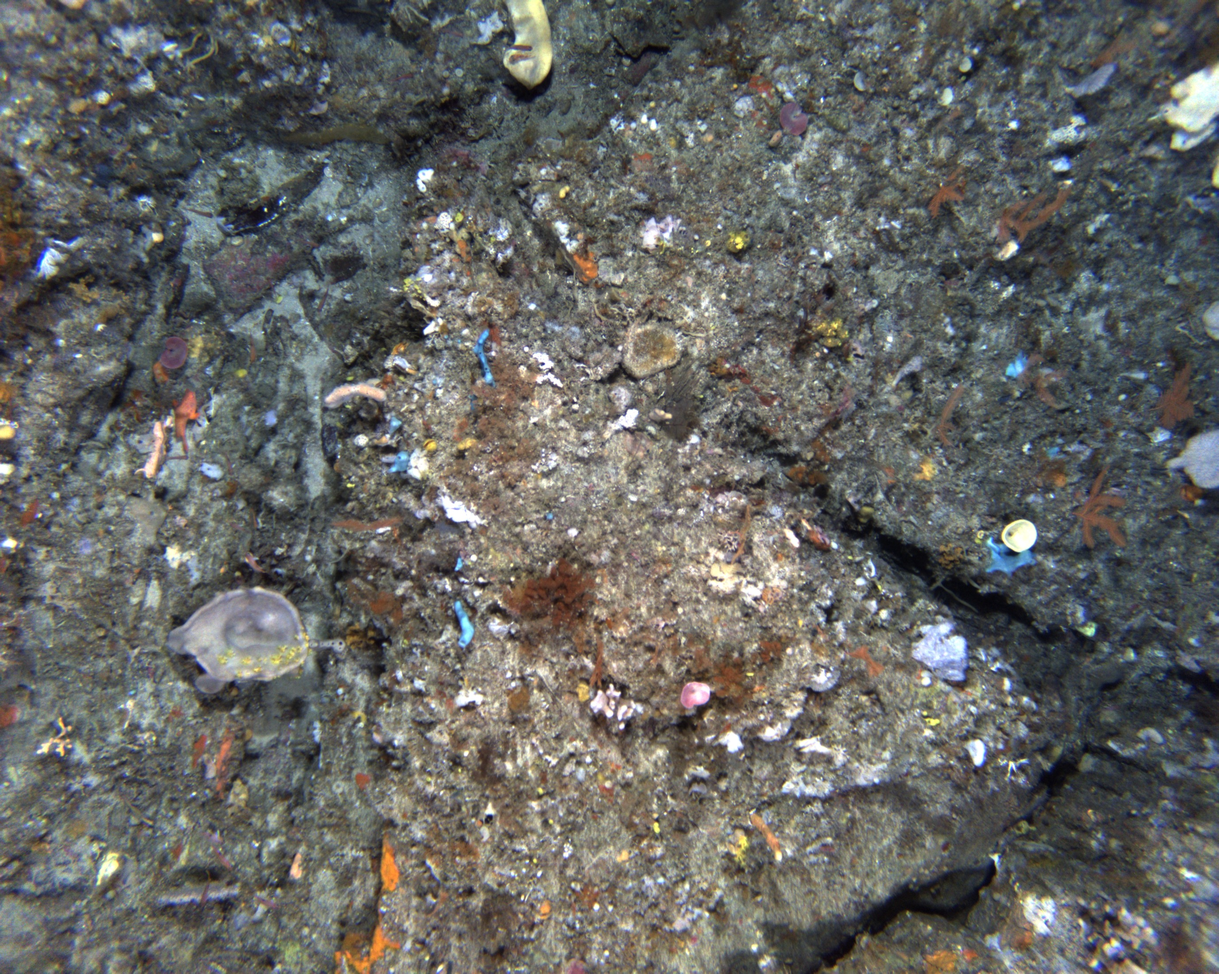Brachionichthyidae: (170, 388, 204, 456)
